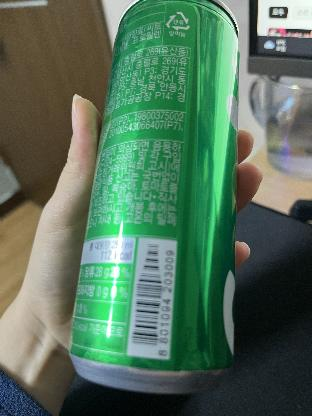Can: (71, 3, 239, 396)
